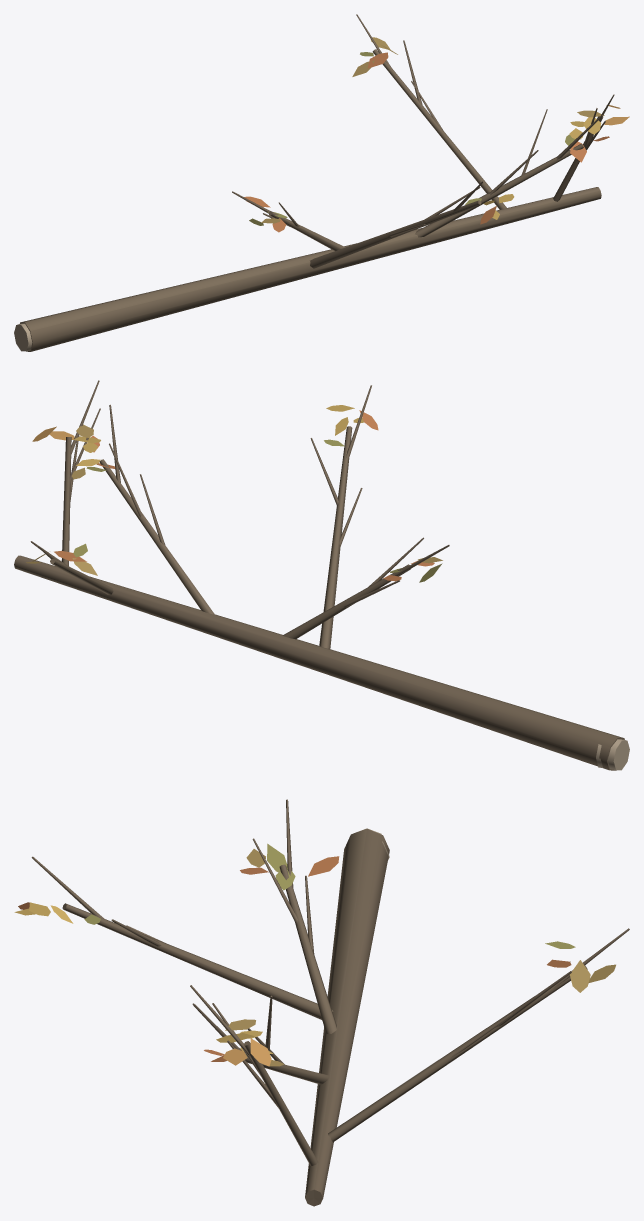
File: storm_debris_branch_a.glb
3 renders of one model, top to bottom at view 1: azimuth 30°, elevation 25°; view 2: azimuth 150°, elevation 25°; view 3: azimuth 270°, elevation 25°, orthographic. The views are drawn at different scales.
Parts seen in each view (by area): view 1: body; view 2: body; view 3: body.
Part boxes in pixels (<box>): body: <box>14,14,629,351</box>; body: <box>14,380,629,770</box>; body: <box>14,799,629,1206</box>.
Bounding box in the file's own units: 2.59 × 0.7702 × 1.75.
